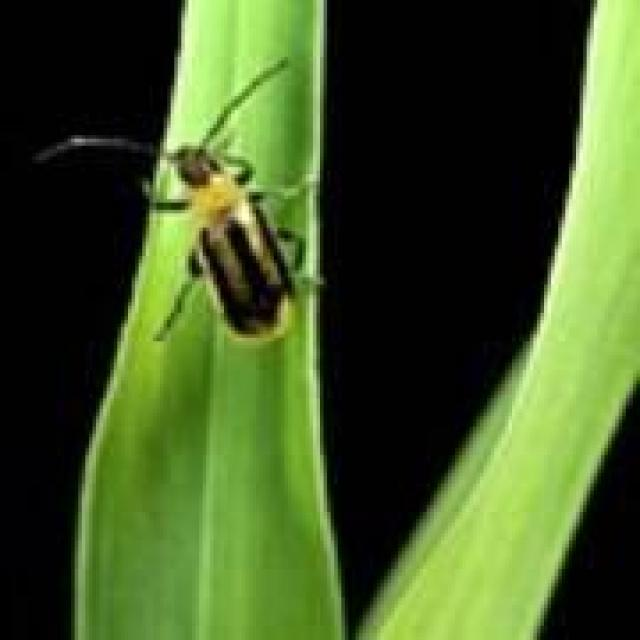trips: (36, 56, 320, 346)
